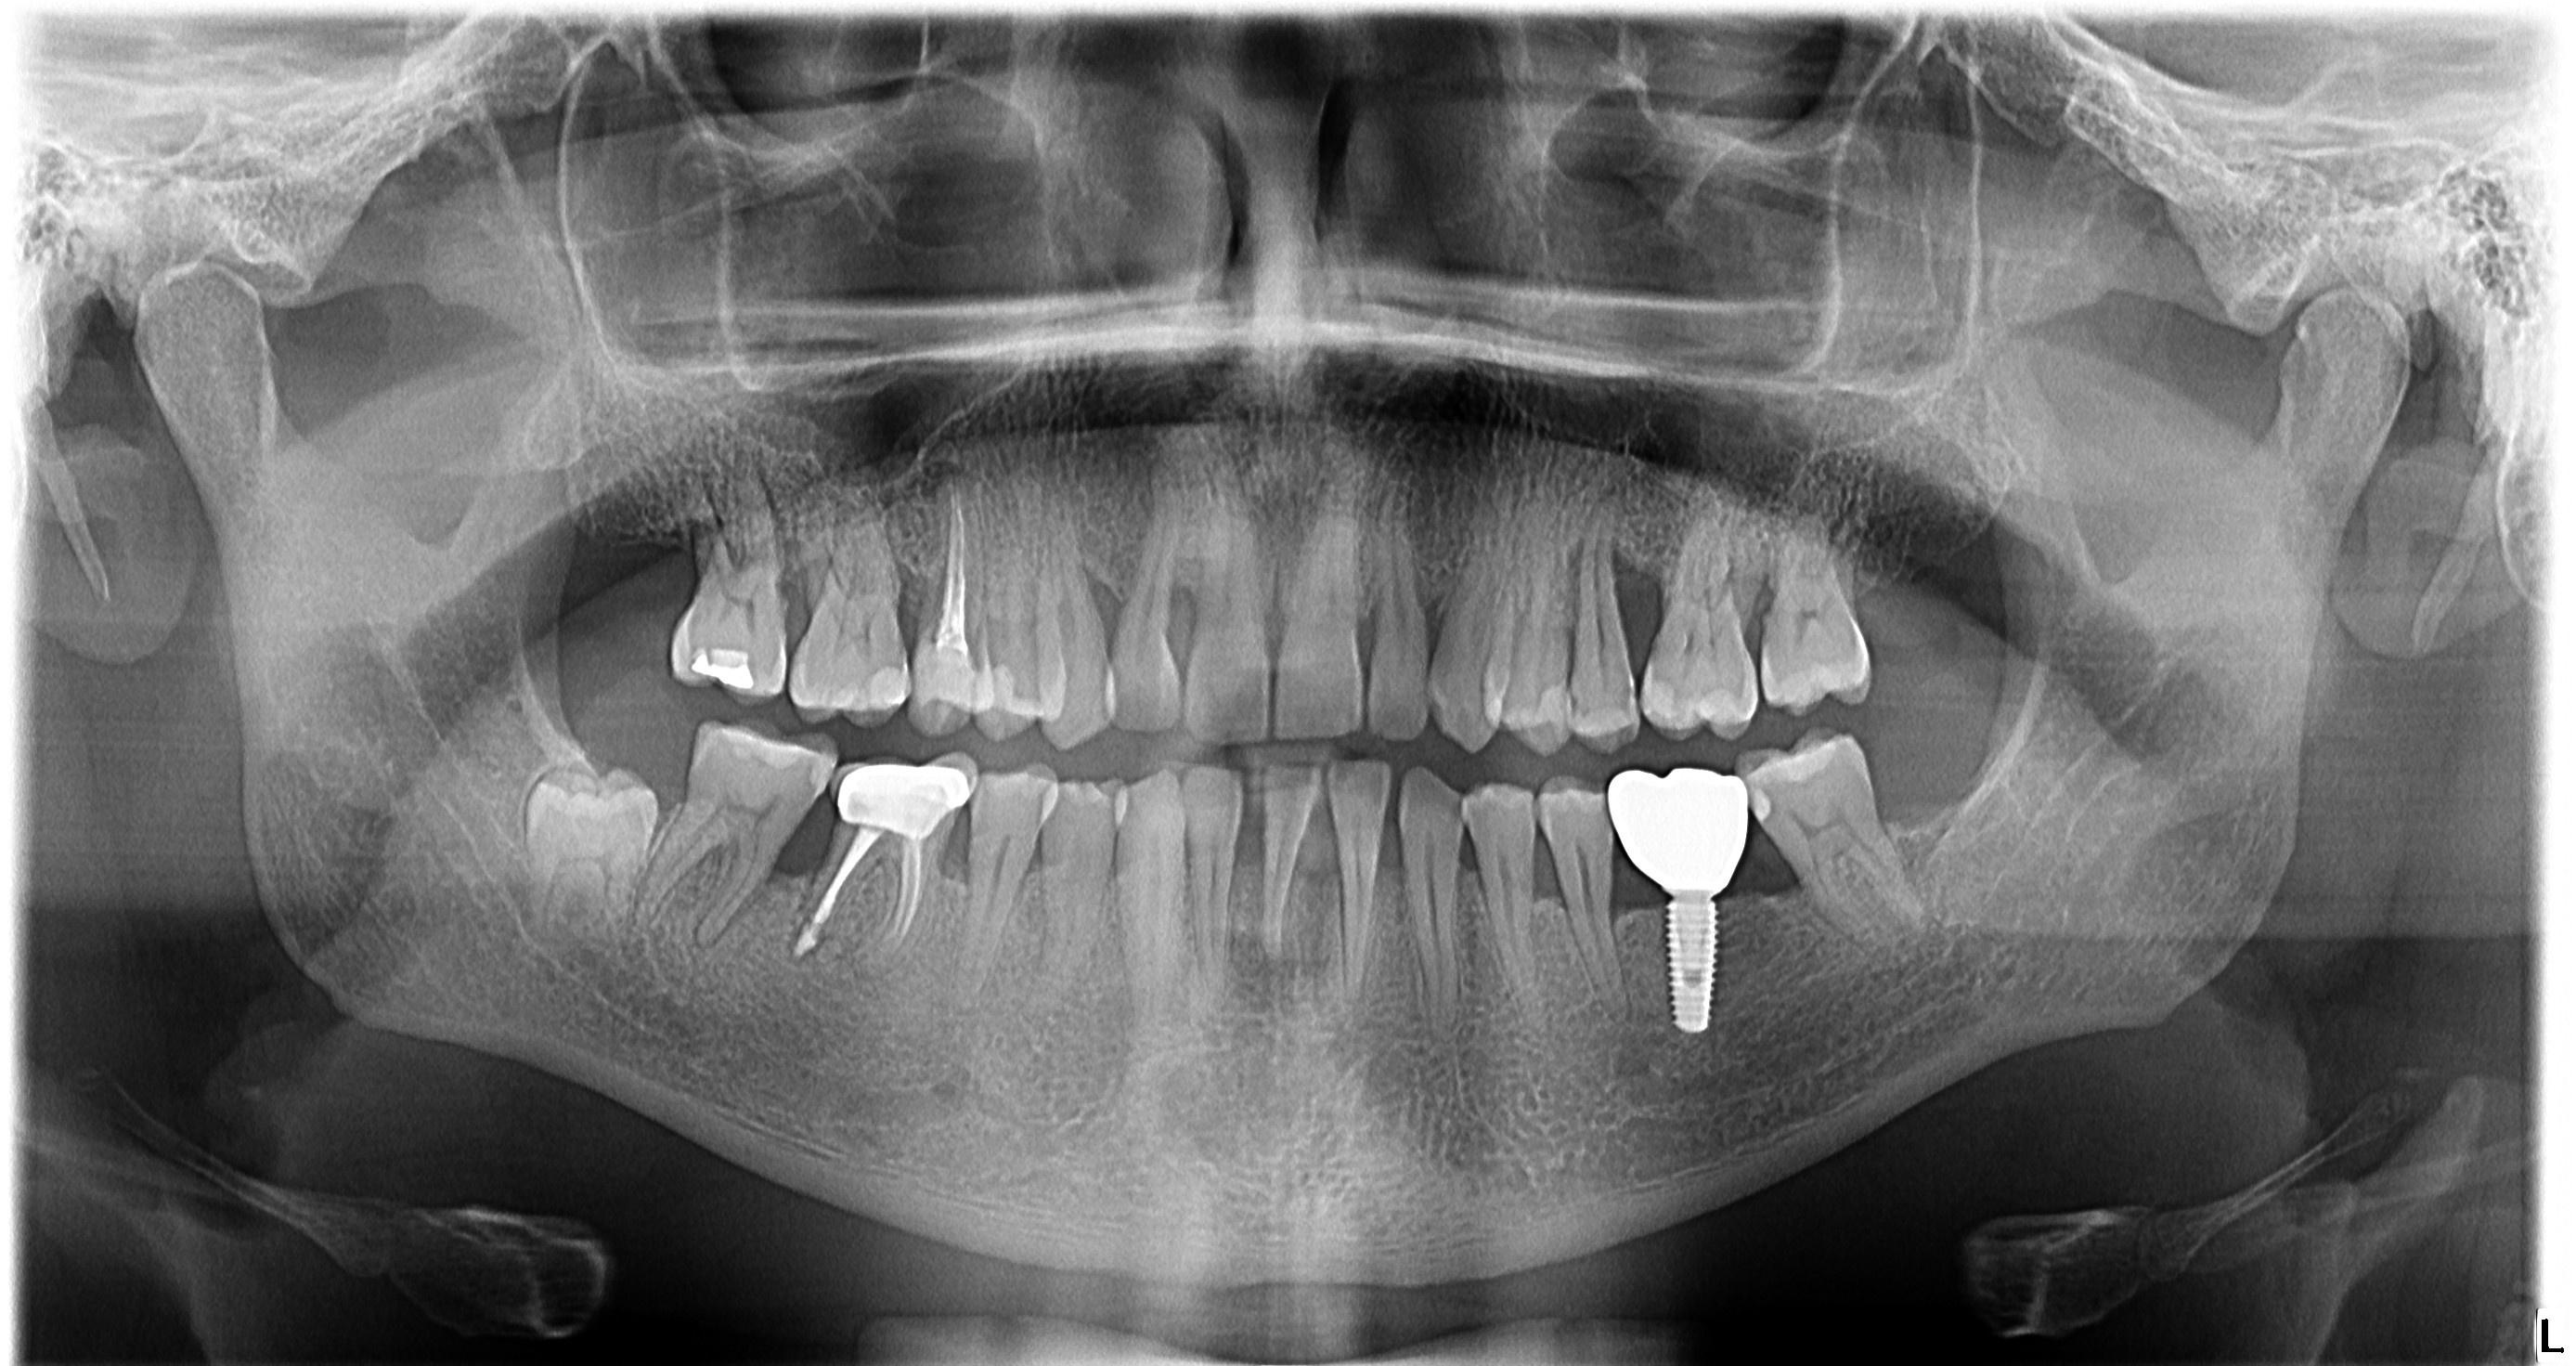BON: (595, 506, 734, 611), (1590, 512, 1695, 645), (1704, 541, 1796, 660), (1055, 539, 1138, 662), (756, 513, 843, 631), (1276, 798, 1360, 919), (734, 815, 843, 906), (1143, 539, 1216, 670), (1498, 837, 1583, 945), (1203, 802, 1281, 907), (1361, 807, 1417, 902)
END: (784, 825, 942, 970), (910, 472, 988, 667)
IMP: (1641, 885, 1739, 1049)
IMT: (489, 750, 664, 957)
OBT: (1758, 708, 1855, 805), (1607, 633, 1692, 732), (678, 626, 765, 708), (968, 658, 1041, 744)
PRR: (1598, 761, 1767, 921), (825, 742, 983, 848)
